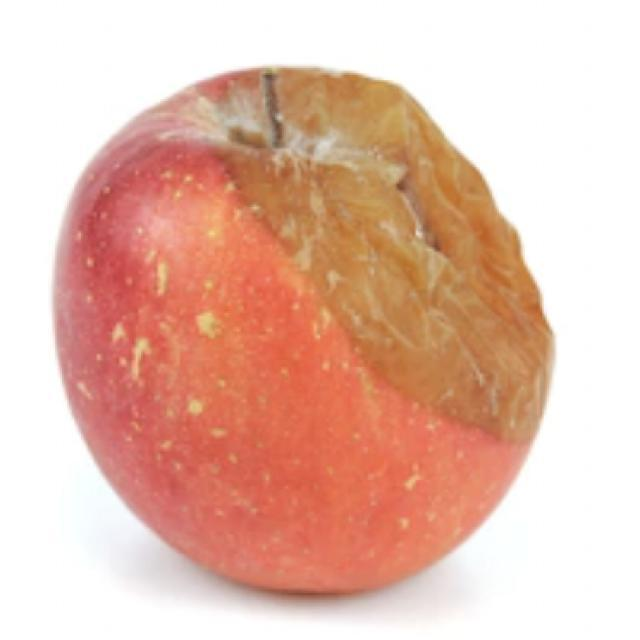Rotten: (91, 83, 532, 567)
